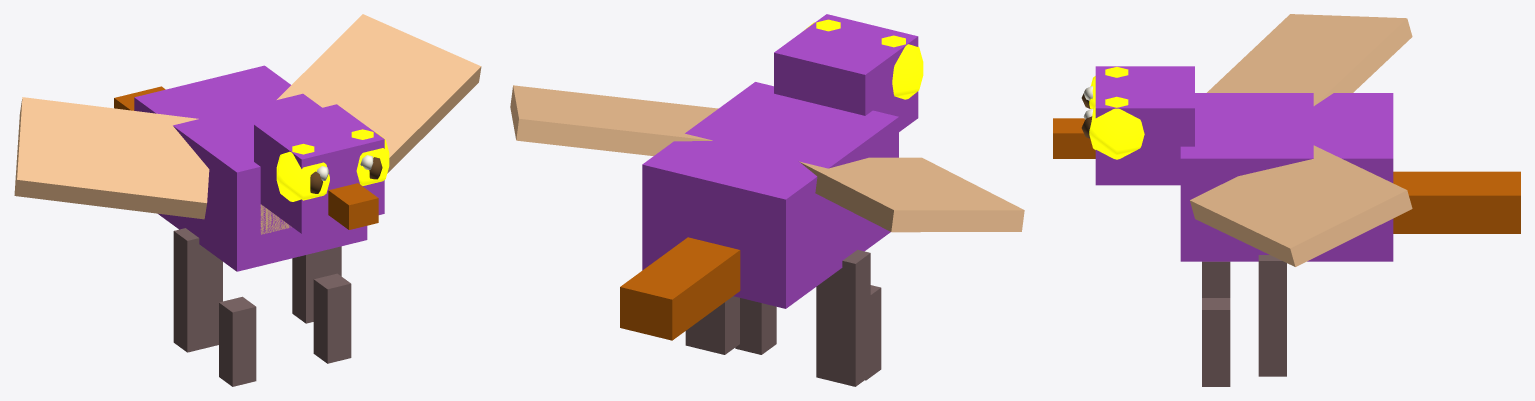
The model's file is PygmyGryphonA.glb.
3 views of the same model, side by side, from view 1: azimuth 30°, elevation 25°; view 2: azimuth 150°, elevation 25°; view 3: azimuth 270°, elevation 25° (orthographic). The views are drawn at different scales.
Parts seen in each view (by area): view 1: PygmyGryphonBody; view 2: PygmyGryphonBody; view 3: PygmyGryphonBody.
Boxes of the visible parts, x1,y1,x2,y2 form: PygmyGryphonBody: (14, 14, 481, 386); PygmyGryphonBody: (510, 14, 1024, 386); PygmyGryphonBody: (1053, 14, 1520, 386).
Size of the model in its own units: 0.7832 by 0.425 by 0.66.
